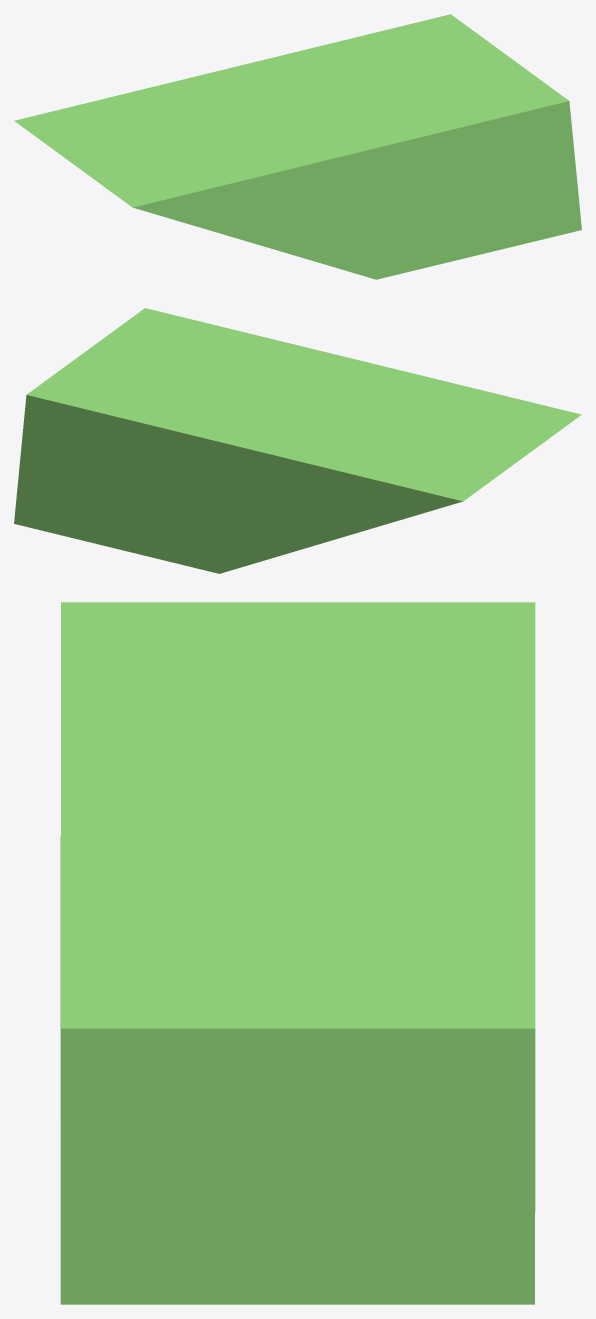
Rendered from 梯形块.fbx.
The picture shows the model from 3 angles, top to bottom: view 1: azimuth 30°, elevation 25°; view 2: azimuth 150°, elevation 25°; view 3: azimuth 270°, elevation 25°; orthographic projection. The views are drawn at different scales.
Visible parts, largest first — view 1: Cube; view 2: Cube; view 3: Cube.
Part boxes in pixels (x1,y1,x2,y2): Cube: (14, 14, 581, 279); Cube: (14, 308, 581, 573); Cube: (60, 602, 535, 1304).
Bounding box in the file's own units: 437 × 123 × 200.
